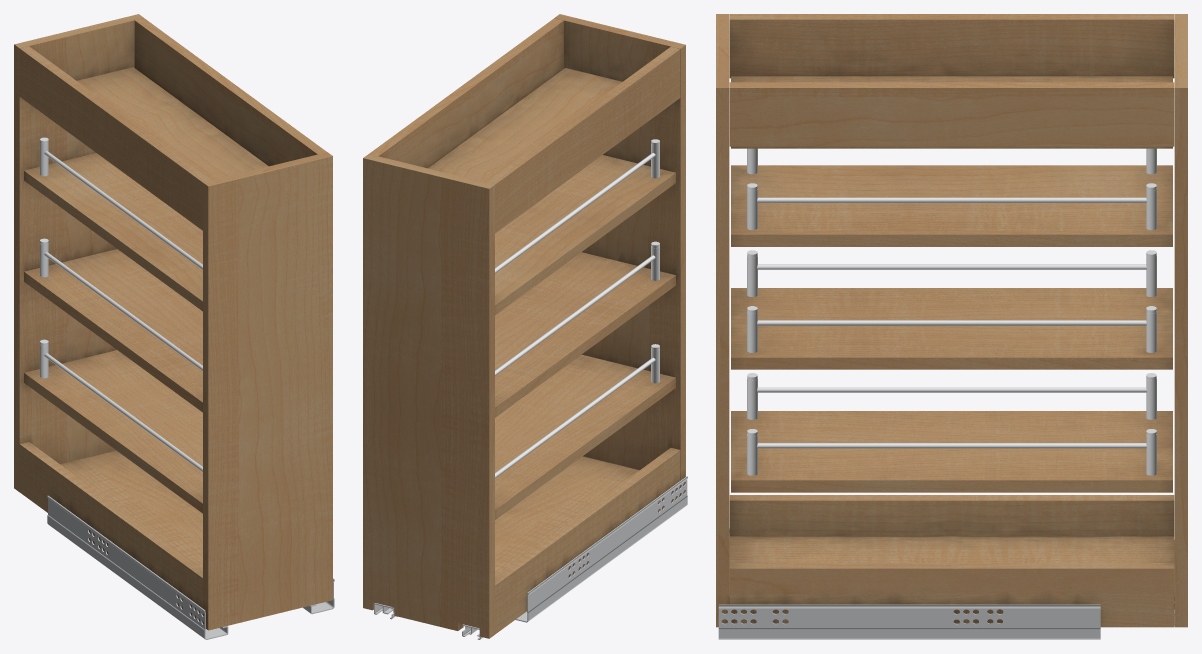
The model's file is inserts-adjustable-shelf-organizer.glb.
The picture shows the model from 3 angles, left to right: view 1: azimuth 30°, elevation 25°; view 2: azimuth 150°, elevation 25°; view 3: azimuth 270°, elevation 25°; orthographic projection. The views are drawn at different scales.
Visible parts, largest first — view 1: insert; view 2: insert; view 3: insert.
Boxes of the visible parts, <box> form: insert: <box>14,14,334,639</box>; insert: <box>363,14,687,639</box>; insert: <box>716,14,1187,639</box>.
Bounding box in the file's own units: 0.2154 × 0.7172 × 0.556.
6 materials, 1 textured.
